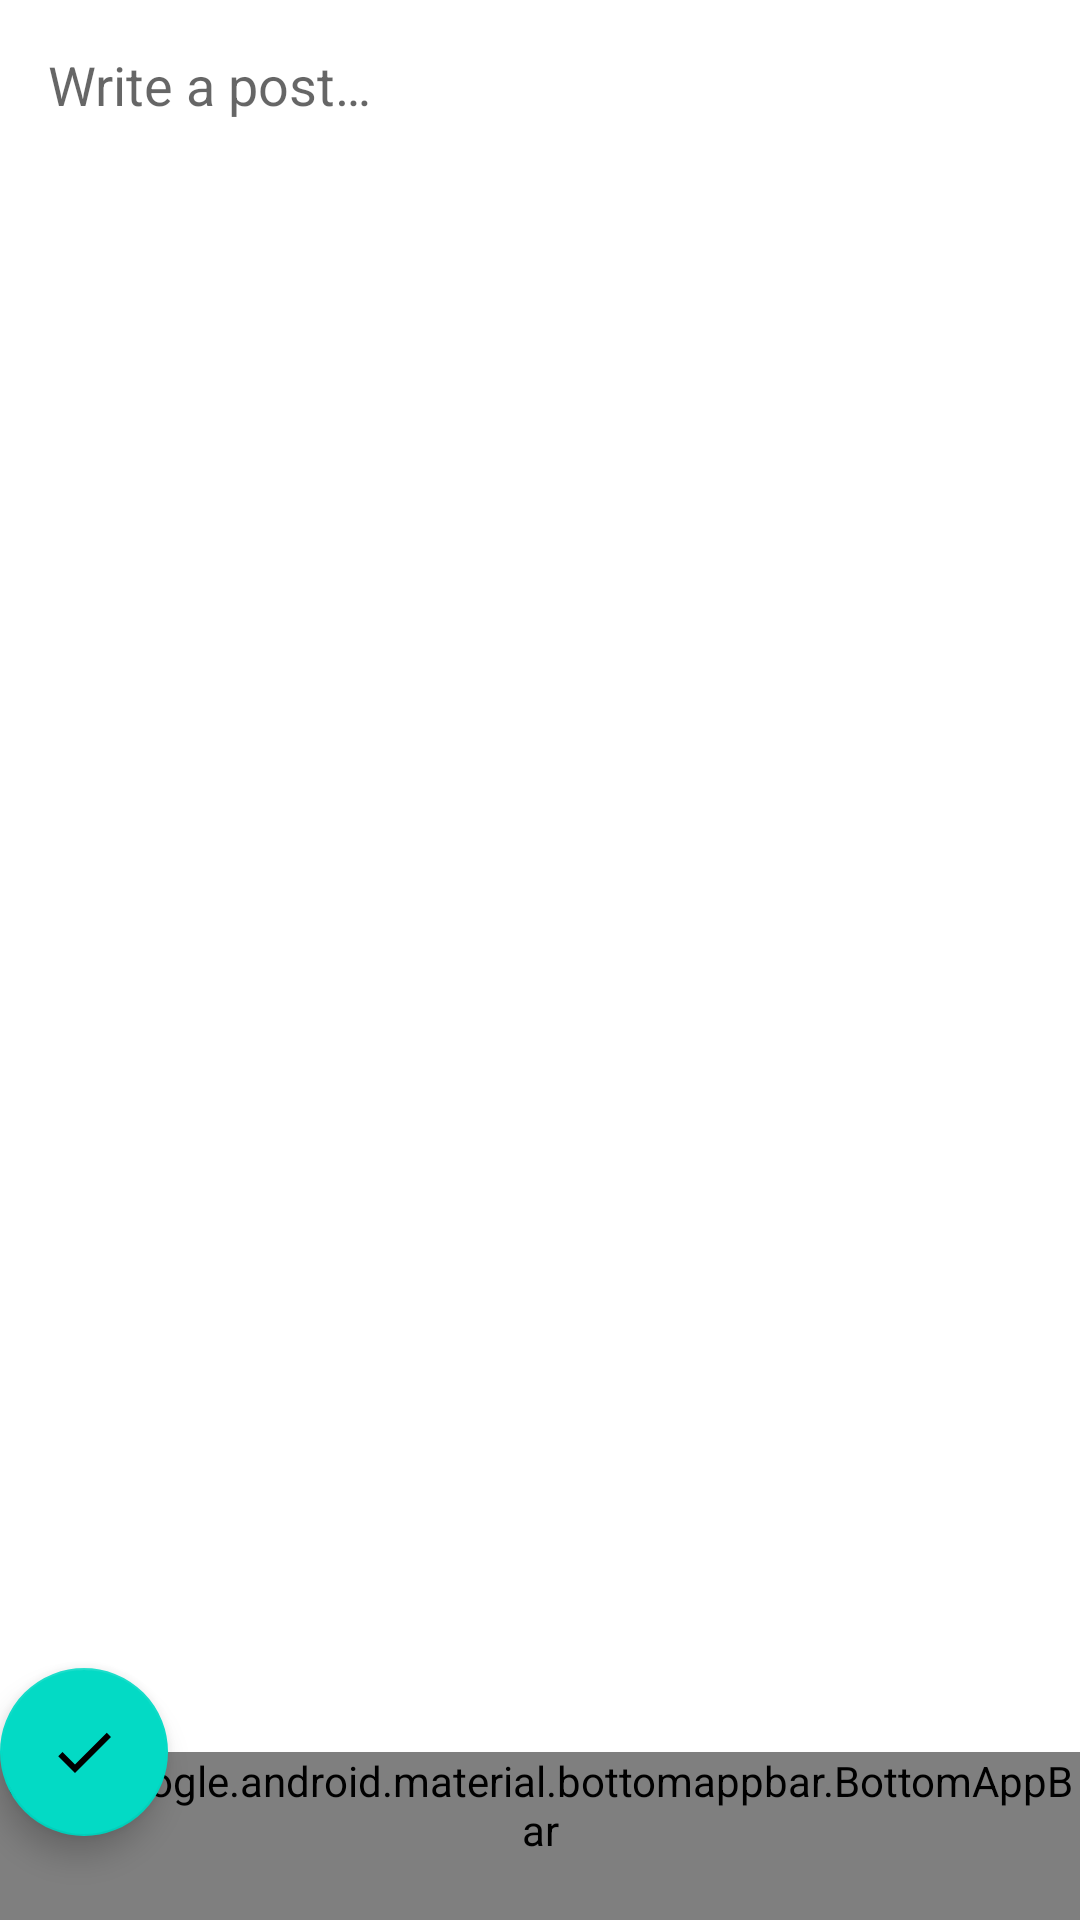

Named icons in this screenshot (1080px×1920px) and their centers, (x=x, y=y):
Save: (x=84, y=1752)
